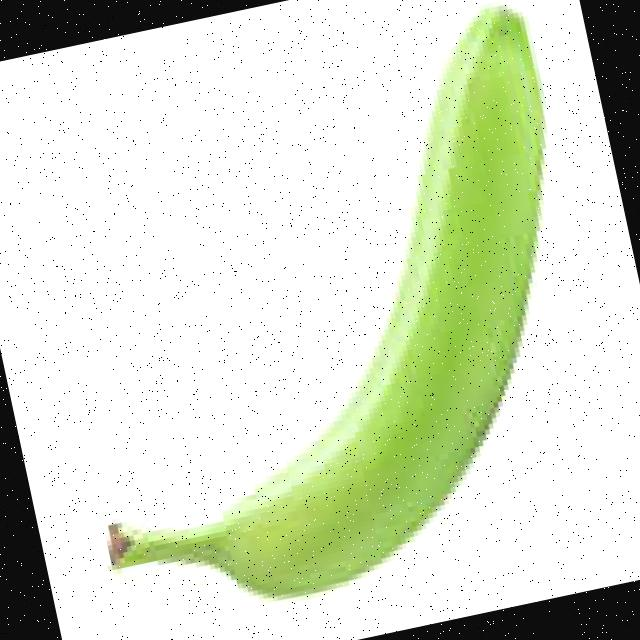banana: (12, 2, 635, 636)
